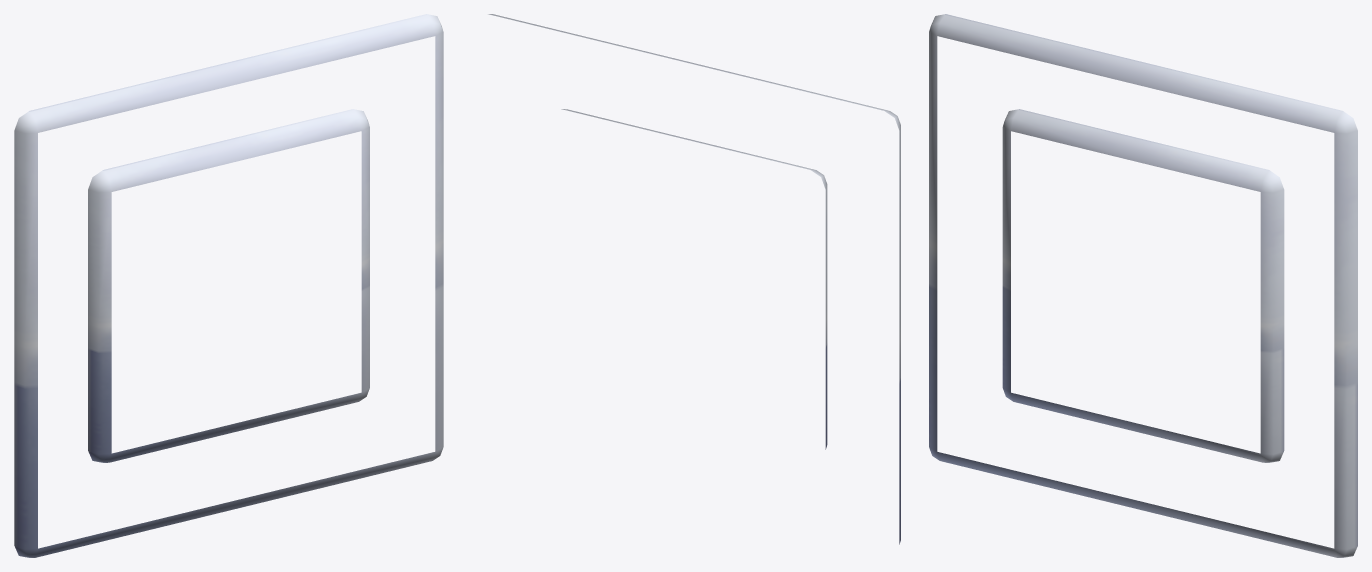
File: markers_materialize_set.glb
3 renders of one model, left to right at view 1: azimuth 30°, elevation 25°; view 2: azimuth 150°, elevation 25°; view 3: azimuth 330°, elevation 25°, orthographic.
Visible parts, largest first — view 1: materializing_floor.markers_materialize_set-MeshSets[marker_ (×2); view 2: materializing_floor.markers_materialize_set-MeshSets[marker_ (×2); view 3: materializing_floor.markers_materialize_set-MeshSets[marker_ (×2).
Part boxes in pixels (<box>): materializing_floor.markers_materialize_set-MeshSets[marker_ (×2): <box>14,14,443,557</box>; materializing_floor.markers_materialize_set-MeshSets[marker_ (×2): <box>488,14,900,544</box>; materializing_floor.markers_materialize_set-MeshSets[marker_ (×2): <box>929,14,1357,557</box>.
Bounding box in the file's own units: 1.45 × 1.45 × 0.051.
1 material, 1 textured.
